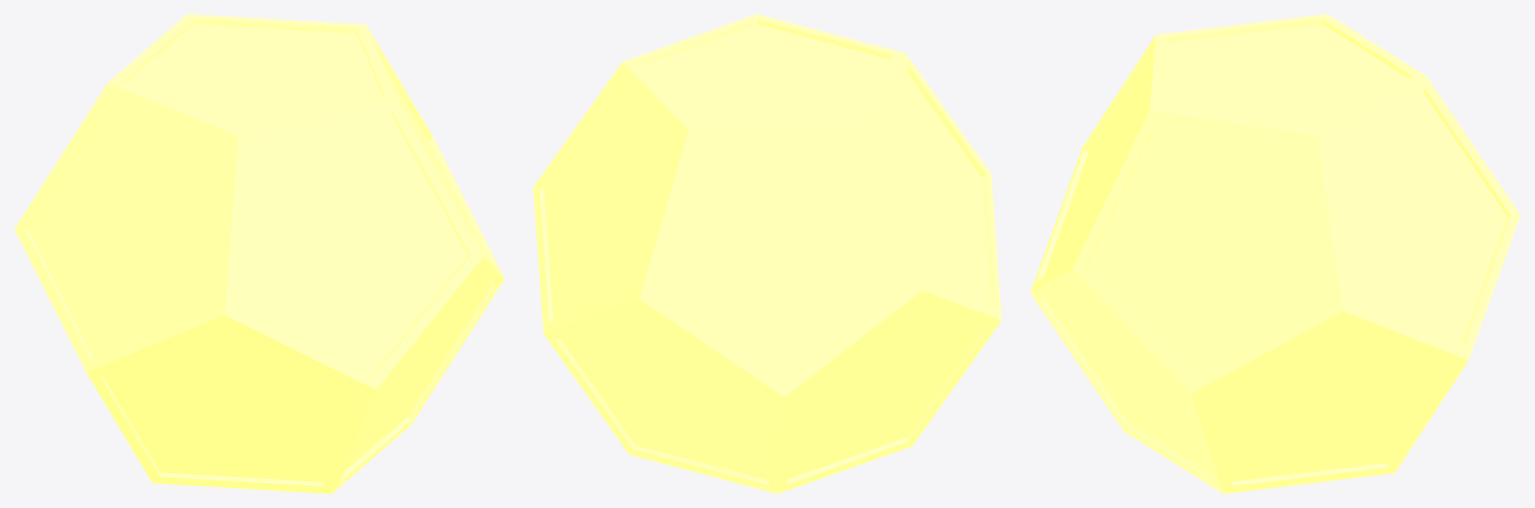
The model's file is SFI0210009.fbx.
3 renders of one model, left to right at view 1: azimuth 30°, elevation 25°; view 2: azimuth 150°, elevation 25°; view 3: azimuth 270°, elevation 25°, orthographic. The views are drawn at different scales.
Parts seen in each view (by area): view 1: smSFI0210009; view 2: smSFI0210009; view 3: smSFI0210009.
Boxes of the visible parts, x1=… form: smSFI0210009: x1=14, y1=14, x2=504, y2=493; smSFI0210009: x1=533, y1=14, x2=1001, y2=493; smSFI0210009: x1=1030, y1=14, x2=1520, y2=493.
Bounding box in the file's own units: 134 × 112 × 139.
